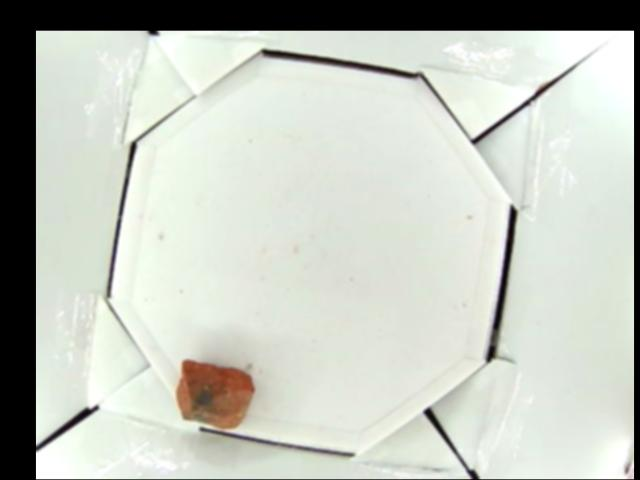Brisk: (177, 356, 254, 432)
